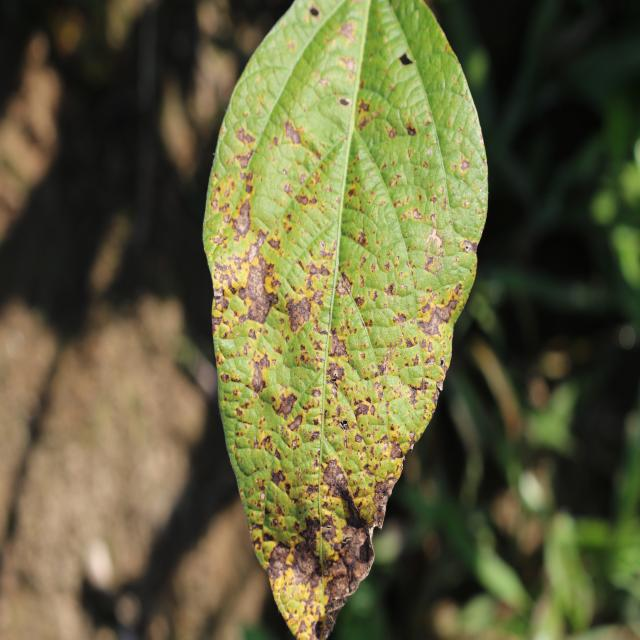Bacterial_Blight: (388, 415, 426, 489), (298, 509, 336, 571), (239, 263, 274, 321), (371, 472, 397, 523), (322, 457, 350, 495), (342, 494, 369, 531), (286, 295, 312, 332), (294, 541, 319, 575), (232, 199, 253, 237), (273, 390, 298, 420), (420, 309, 446, 337), (427, 300, 455, 326), (337, 271, 357, 307), (327, 569, 351, 599), (268, 543, 291, 569), (248, 228, 269, 255), (250, 361, 267, 394), (306, 260, 332, 281), (326, 361, 347, 385), (425, 225, 443, 252), (235, 126, 256, 148), (338, 20, 357, 44), (283, 120, 302, 144), (407, 384, 424, 408), (353, 399, 372, 420), (332, 336, 349, 358), (286, 411, 303, 433), (359, 537, 373, 563), (338, 55, 356, 74), (270, 467, 287, 486), (460, 238, 477, 255), (294, 503, 310, 520), (389, 442, 404, 460), (209, 233, 227, 247), (436, 361, 448, 382), (357, 98, 371, 115), (294, 193, 312, 206), (212, 314, 223, 335), (267, 236, 281, 251), (398, 52, 413, 66), (251, 529, 263, 546), (357, 230, 368, 246), (425, 255, 436, 271), (213, 285, 224, 301), (315, 620, 323, 638), (283, 182, 294, 195), (309, 5, 320, 18), (384, 282, 394, 296), (406, 124, 417, 136), (339, 419, 350, 431), (460, 159, 470, 172), (413, 208, 423, 220), (220, 372, 230, 384), (317, 77, 329, 87), (339, 97, 350, 107), (299, 173, 308, 185), (287, 40, 296, 52), (460, 199, 470, 209), (437, 380, 444, 392), (388, 128, 396, 138), (270, 517, 278, 527), (430, 212, 437, 223), (384, 261, 391, 272), (287, 588, 294, 599), (253, 437, 259, 449), (409, 431, 416, 441), (426, 148, 433, 156), (440, 357, 445, 368), (260, 492, 266, 501), (319, 240, 325, 249), (282, 168, 288, 176), (292, 440, 297, 449), (253, 391, 258, 399)
Soybean: (201, 0, 489, 640)
